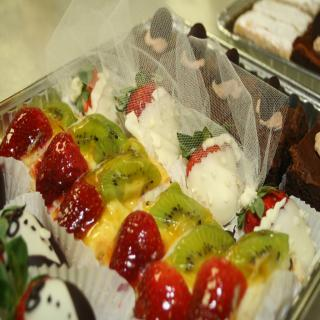Strawberry: (232, 181, 318, 280), (177, 130, 240, 228), (116, 72, 184, 158), (37, 132, 90, 210), (132, 260, 194, 320), (192, 256, 245, 320), (110, 213, 162, 278), (52, 178, 102, 242), (0, 103, 51, 162), (67, 66, 117, 122)
